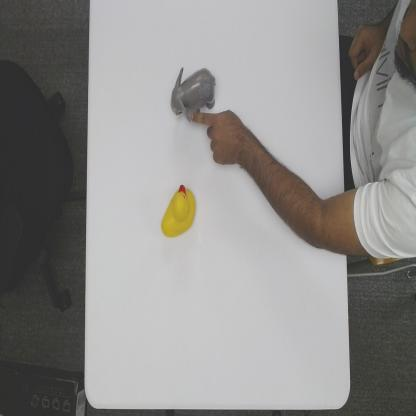Arm: (246, 126, 345, 254)
Duck: (160, 183, 196, 239)
Elephant: (169, 64, 217, 121)
Hand: (190, 106, 244, 166)
